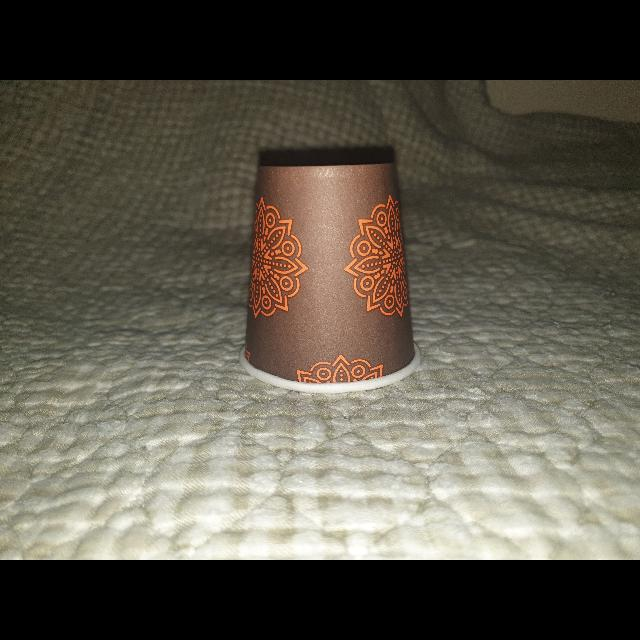trash: (234, 158, 426, 398)
